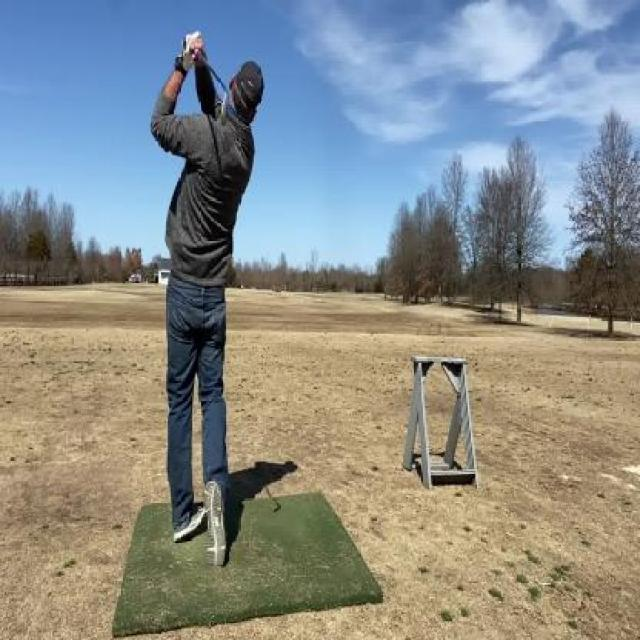club head: (220, 82, 229, 126)
